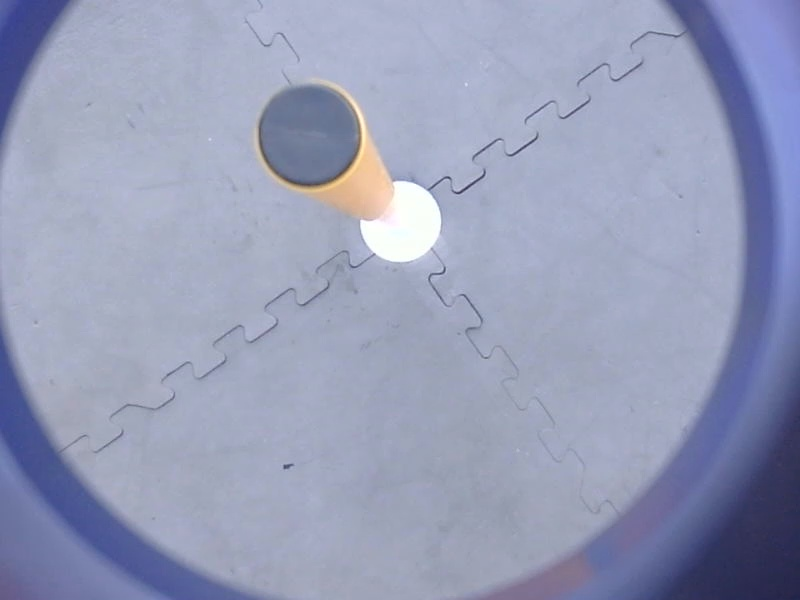tip: (250, 75, 372, 196)
